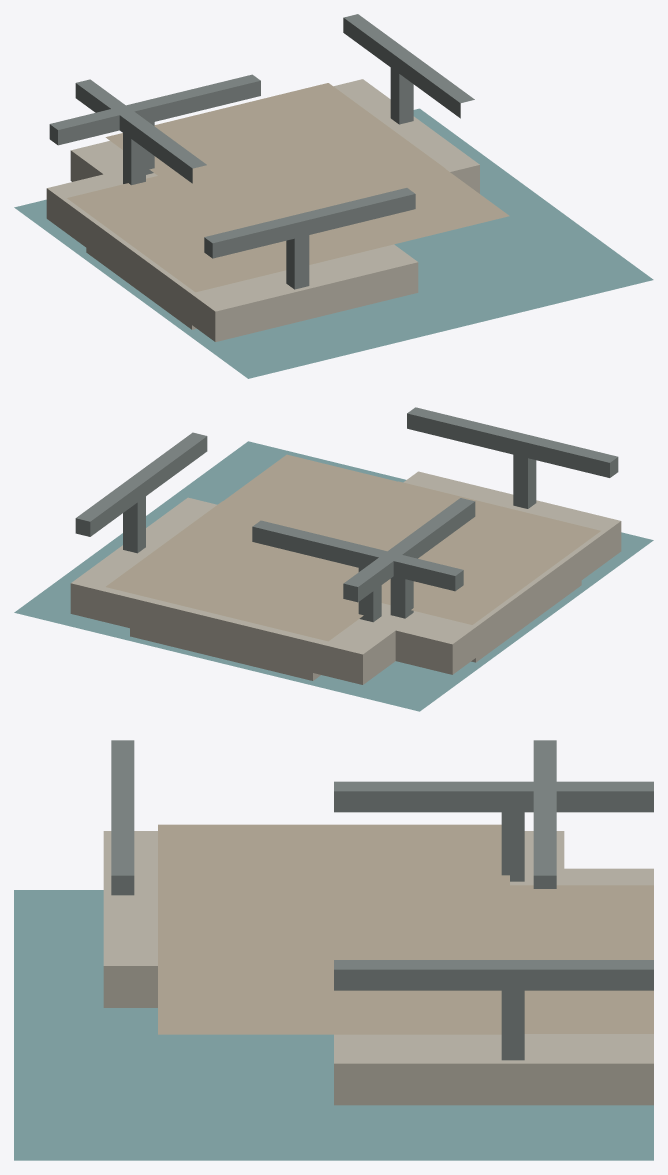
3 renders of one model, top to bottom at view 1: azimuth 30°, elevation 25°; view 2: azimuth 150°, elevation 25°; view 3: azimuth 270°, elevation 25°, orthographic. The views are drawn at different scales.
Visible parts, largest first — view 1: Near; view 2: Near; view 3: Near.
Part boxes in pixels (x1,y1,x2,y2): Near: (14, 14, 653, 378); Near: (14, 407, 653, 711); Near: (14, 740, 653, 1160).
Bounding box in the file's own units: 1 × 0.258 × 1.
